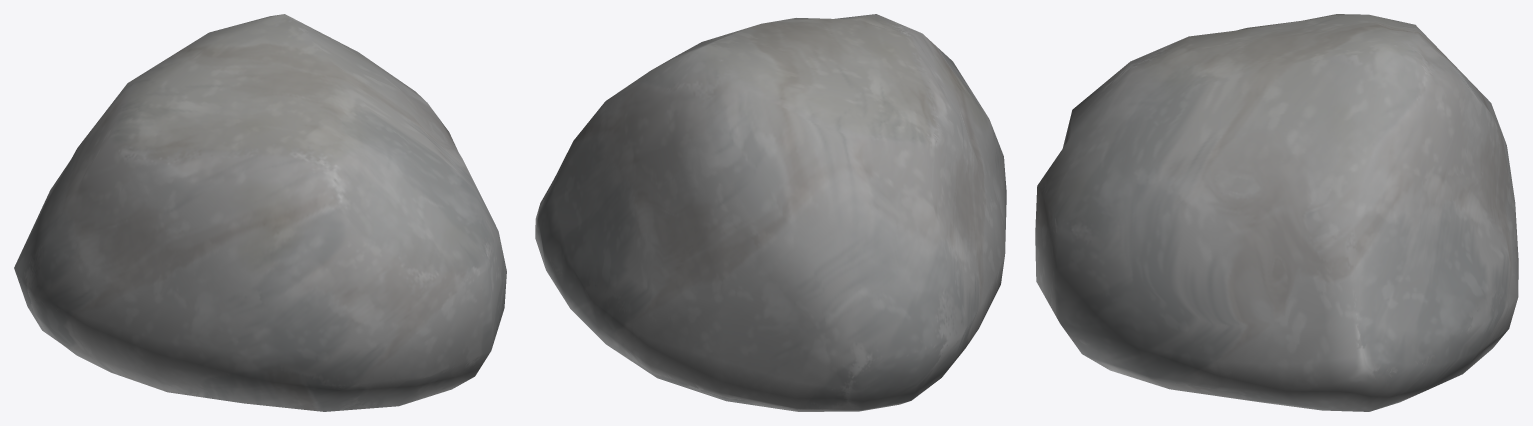
The model's file is Boulder.fbx.
3 renders of one model, left to right at view 1: azimuth 30°, elevation 25°; view 2: azimuth 150°, elevation 25°; view 3: azimuth 270°, elevation 25°, orthographic. The views are drawn at different scales.
Parts seen in each view (by area): view 1: Boulder_LOD0; view 2: Boulder_LOD0; view 3: Boulder_LOD0.
Boxes of the visible parts, x1,y1,x2,y2 form: Boulder_LOD0: (14, 14, 506, 411); Boulder_LOD0: (535, 14, 1006, 411); Boulder_LOD0: (1035, 14, 1518, 411).
Size of what is drawn, in the model's own units: 3 by 1.93 by 2.78.
